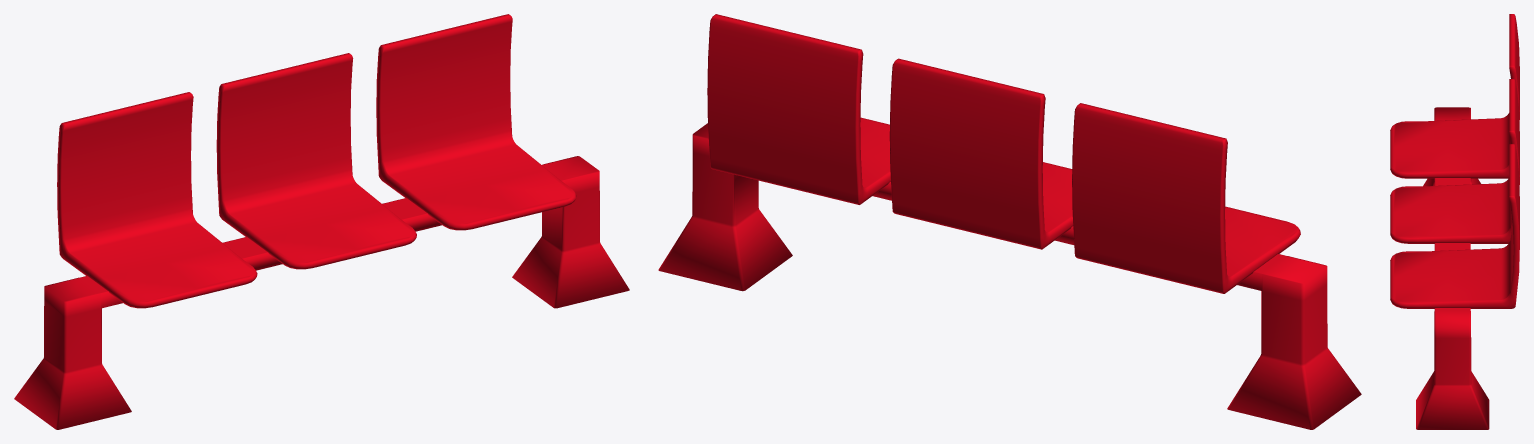
File: Bench.fbx
The picture shows the model from 3 angles, left to right: view 1: azimuth 30°, elevation 25°; view 2: azimuth 150°, elevation 25°; view 3: azimuth 270°, elevation 25°; orthographic projection. The views are drawn at different scales.
Visible parts, largest first — view 1: bench_base; view 2: bench_base; view 3: bench_base.
Part boxes in pixels (<box>): bench_base: <box>14,14,629,429</box>; bench_base: <box>658,14,1361,429</box>; bench_base: <box>1390,14,1519,429</box>.
Bounding box in the file's own units: 899 × 372 × 211.
